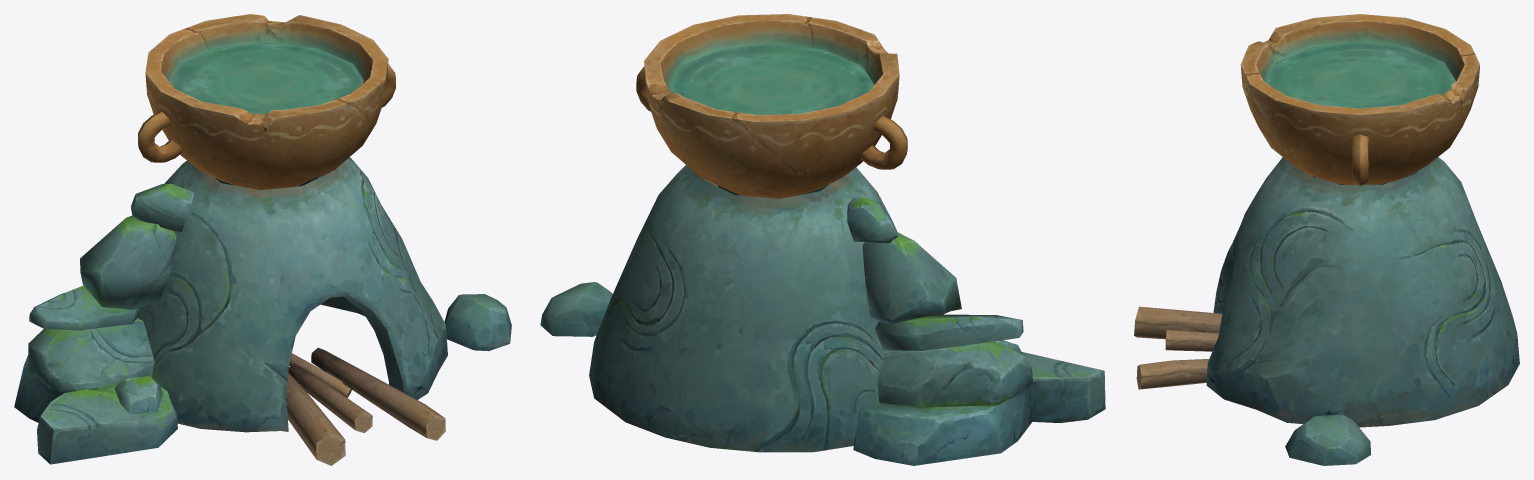
Rendered from Homeworld_Exterior_Xm_Thing_Prop_Claypot_01_Vo.fbx.
3 views of the same model, side by side, from view 1: azimuth 30°, elevation 25°; view 2: azimuth 150°, elevation 25°; view 3: azimuth 270°, elevation 25° (orthographic). The views are drawn at different scales.
Parts seen in each view (by area): view 1: Homeworld_Exterior_Xm_Thing_Prop_Claypot_01_Vo; view 2: Homeworld_Exterior_Xm_Thing_Prop_Claypot_01_Vo; view 3: Homeworld_Exterior_Xm_Thing_Prop_Claypot_01_Vo.
Part boxes in pixels (left/top/right/bottom): Homeworld_Exterior_Xm_Thing_Prop_Claypot_01_Vo: left=14, top=14, right=511, bottom=465; Homeworld_Exterior_Xm_Thing_Prop_Claypot_01_Vo: left=540, top=14, right=1105, bottom=465; Homeworld_Exterior_Xm_Thing_Prop_Claypot_01_Vo: left=1134, top=14, right=1519, bottom=465.
Size of the model in its own units: 1.88 by 1.13 by 1.3.
1 material, 1 textured.
